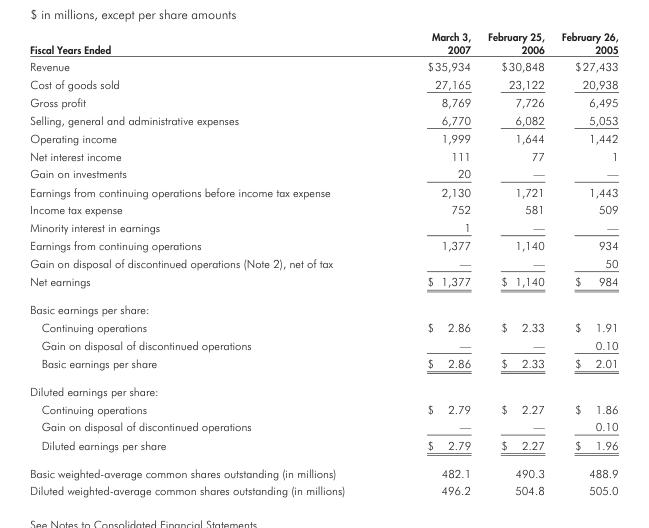table: (29, 29, 617, 496)
table column: (29, 29, 385, 496), (385, 29, 478, 496), (478, 29, 552, 496), (552, 29, 617, 496)
table column header: (29, 29, 617, 57)
table projected row header: (29, 295, 617, 318), (29, 376, 617, 399)
table row: (29, 29, 617, 57), (29, 271, 617, 295), (29, 295, 617, 318), (29, 353, 617, 376), (29, 376, 617, 399), (29, 435, 617, 458), (29, 458, 617, 481), (29, 74, 617, 92), (29, 92, 617, 110), (29, 110, 617, 128), (29, 128, 617, 146), (29, 146, 617, 164), (29, 164, 617, 182), (29, 182, 617, 200), (29, 200, 617, 218), (29, 235, 617, 253), (29, 253, 617, 271), (29, 335, 617, 353), (29, 399, 617, 417), (29, 417, 617, 435), (29, 57, 617, 74), (29, 218, 617, 235), (29, 318, 617, 335), (29, 481, 617, 496)
